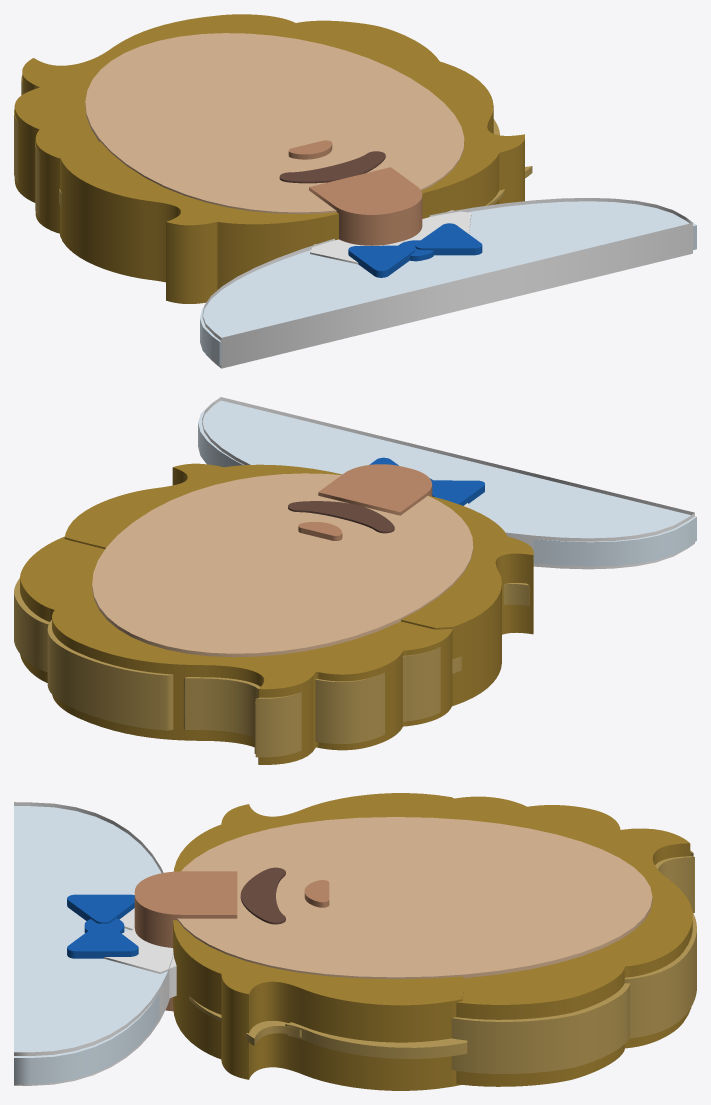
Rendered from emoji_u1f9d1_1f3fc_200d_1f4bc.glb.
3 views of the same model, one above another, from view 1: azimuth 30°, elevation 25°; view 2: azimuth 150°, elevation 25°; view 3: azimuth 270°, elevation 25° (orthographic). The views are drawn at different scales.
Visible parts, largest first — view 1: emoji_u1f9d1_1f3fc_200d_1f4bc; view 2: emoji_u1f9d1_1f3fc_200d_1f4bc; view 3: emoji_u1f9d1_1f3fc_200d_1f4bc.
Part boxes in pixels (box(x1,y1,x2,y2)): emoji_u1f9d1_1f3fc_200d_1f4bc: box(14, 14, 696, 368); emoji_u1f9d1_1f3fc_200d_1f4bc: box(14, 397, 696, 764); emoji_u1f9d1_1f3fc_200d_1f4bc: box(14, 793, 696, 1090).
Bounding box in the file's own units: 0.0292 × 0.0054 × 0.0333.
